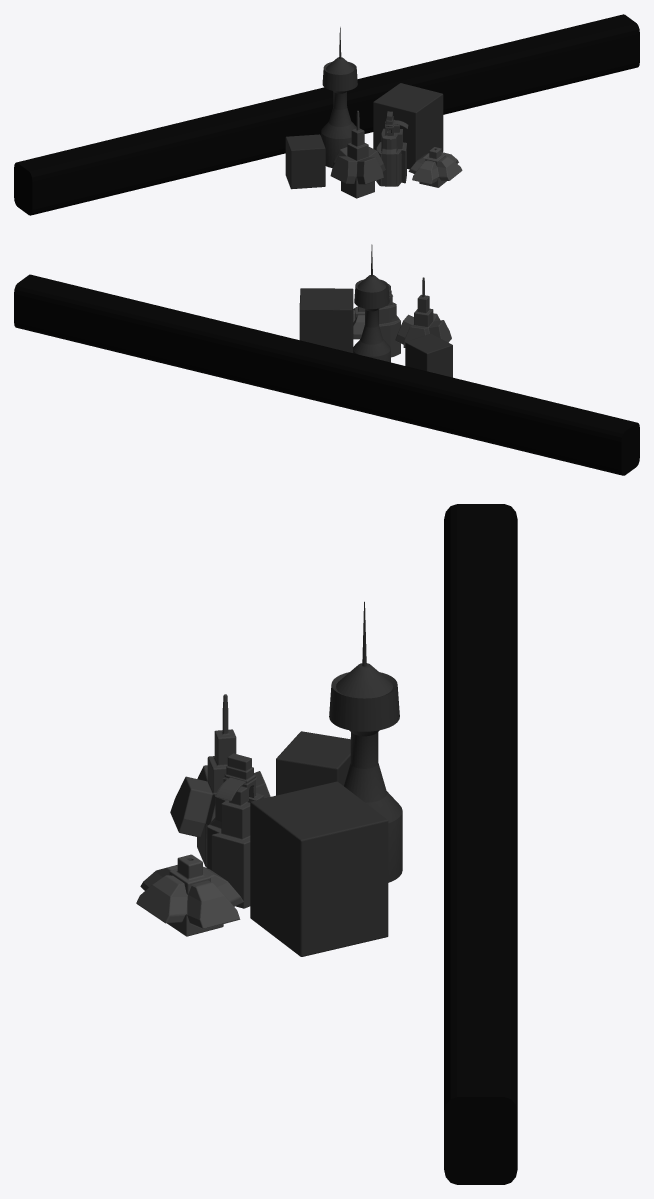
File: background.glb
The picture shows the model from 3 angles, top to bottom: view 1: azimuth 30°, elevation 25°; view 2: azimuth 150°, elevation 25°; view 3: azimuth 270°, elevation 25°; orthographic projection. The views are drawn at different scales.
Visible parts, largest first — view 1: HintergrundBlocker, Gebäude4, Gebäude3, Gebäude1, Gebäude5, station_background, Gebäude2; view 2: HintergrundBlocker, Gebäude4, Gebäude3, Gebäude5, Gebäude1, station_background, Gebäude2; view 3: HintergrundBlocker, Gebäude4, Gebäude3, Gebäude2, station_background, Gebäude1, Gebäude5.
Boxes of the visible parts, x1,y1,x2,y2 form: HintergrundBlocker: [14, 14, 639, 215]; Gebäude4: [373, 83, 443, 169]; Gebäude3: [321, 27, 357, 167]; Gebäude1: [330, 110, 385, 198]; Gebäude5: [285, 134, 325, 189]; station_background: [376, 111, 408, 186]; Gebäude2: [408, 147, 462, 187]; HintergrundBlocker: [14, 274, 639, 475]; Gebäude4: [299, 288, 353, 352]; Gebäude3: [353, 244, 390, 362]; Gebäude5: [405, 333, 452, 377]; Gebäude1: [395, 277, 451, 347]; station_background: [378, 284, 400, 357]; Gebäude2: [353, 306, 364, 339]; HintergrundBlocker: [444, 504, 517, 1184]; Gebäude4: [250, 781, 388, 956]; Gebäude3: [329, 601, 402, 882]; Gebäude2: [136, 854, 243, 936]; station_background: [207, 753, 263, 908]; Gebäude1: [170, 694, 270, 867]; Gebäude5: [276, 731, 350, 795].
Size of the model in its own units: 2191 by 468 by 596.
4 materials, 4 textured.
